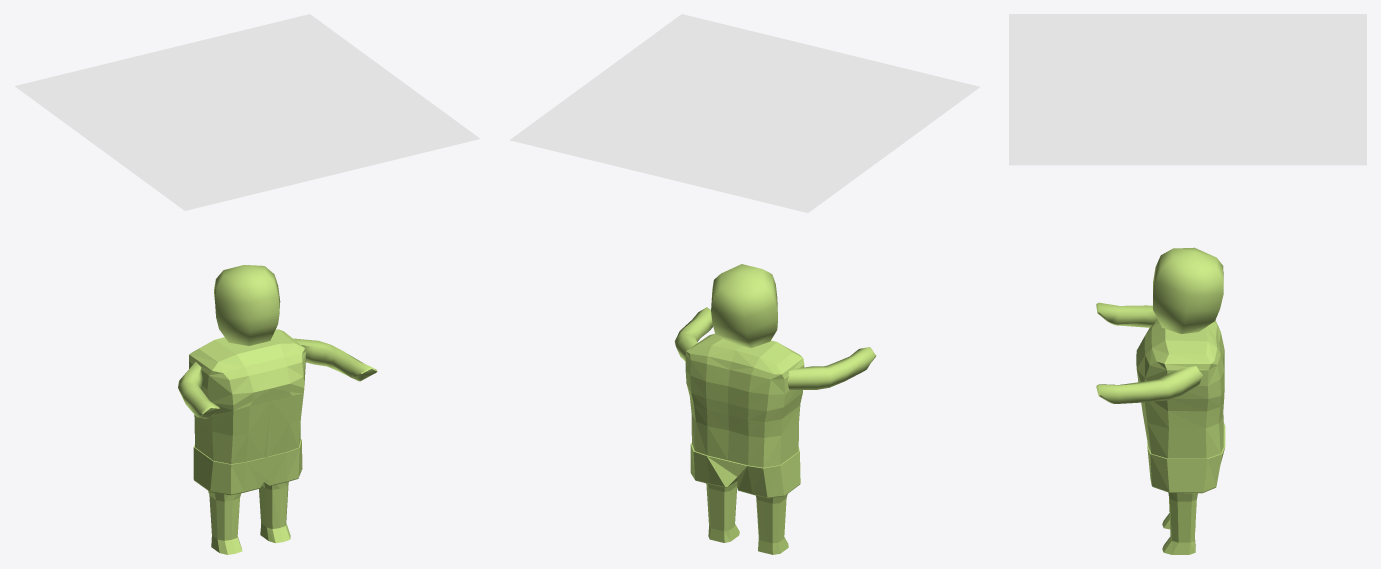
Rendered from FOAM_Zombie_V3.fbx.
The picture shows the model from 3 angles, left to right: view 1: azimuth 30°, elevation 25°; view 2: azimuth 150°, elevation 25°; view 3: azimuth 270°, elevation 25°; orthographic projection. The views are drawn at different scales.
Parts seen in each view (by area): view 1: Plane, pCube1, pSphere1, pCylinder1; view 2: Plane, pCube1, pSphere1, pCylinder1; view 3: Plane, pCube1, pSphere1, pCylinder1.
Boxes of the visible parts, x1,y1,x2,y2 form: Plane: (14, 14, 480, 210); pCube1: (189, 329, 306, 554); pSphere1: (214, 265, 280, 345); pCylinder1: (178, 338, 377, 418); Plane: (509, 14, 979, 212); pCube1: (685, 333, 804, 554); pSphere1: (711, 264, 777, 348); pCylinder1: (674, 307, 876, 389); Plane: (1009, 14, 1366, 165); pCube1: (1136, 320, 1225, 554); pSphere1: (1153, 247, 1223, 333); pCylinder1: (1096, 302, 1202, 403).
Size of the model in its own units: 869 by 1198 by 869.
